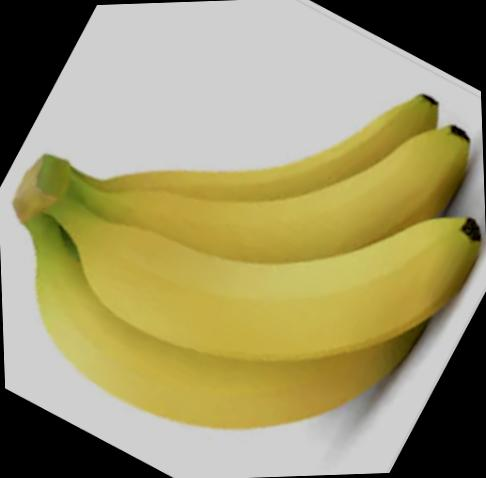Banana Ripe: (0, 9, 486, 478)
